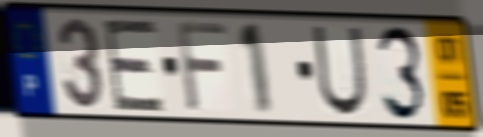1: (238, 21, 275, 117)
3: (371, 23, 426, 125), (56, 15, 105, 112)
E: (100, 18, 167, 114)
F: (174, 18, 231, 115)
U: (309, 23, 369, 119)
